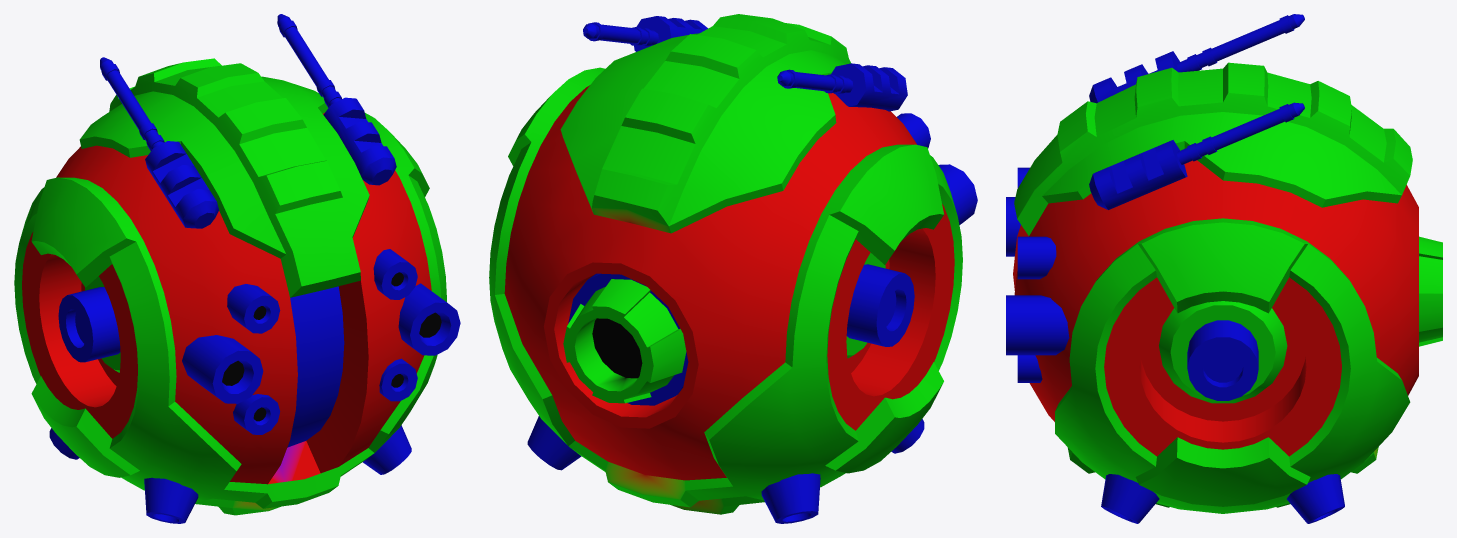
File: SphereBot_LVL1.FBX
3 views of the same model, side by side, from view 1: azimuth 30°, elevation 25°; view 2: azimuth 150°, elevation 25°; view 3: azimuth 270°, elevation 25° (orthographic). The views are drawn at different scales.
Parts seen in each view (by area): view 1: SphereBot_LVL1; view 2: SphereBot_LVL1; view 3: SphereBot_LVL1.
Boxes of the visible parts, <box> form: SphereBot_LVL1: <box>14,14,460,523</box>; SphereBot_LVL1: <box>489,14,977,523</box>; SphereBot_LVL1: <box>1006,14,1442,523</box>.
Bounding box in the file's own units: 97.53 × 112 × 102.
